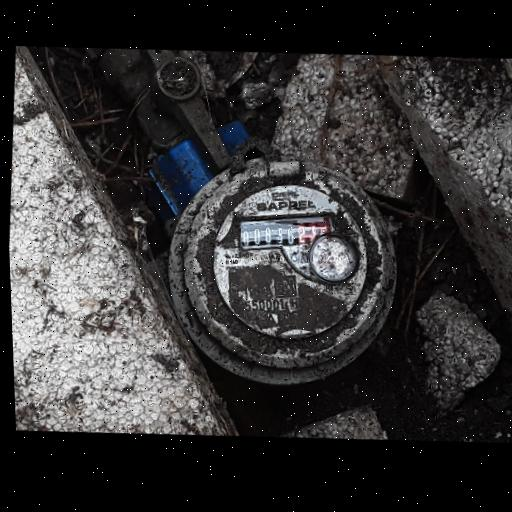0: (249, 224, 264, 247), (240, 225, 254, 247)
2: (294, 221, 309, 246)
5: (305, 220, 322, 246), (272, 222, 289, 246)
6: (283, 222, 300, 247)
8: (261, 223, 277, 246)
border_water_meter_number: (235, 204, 341, 258)
